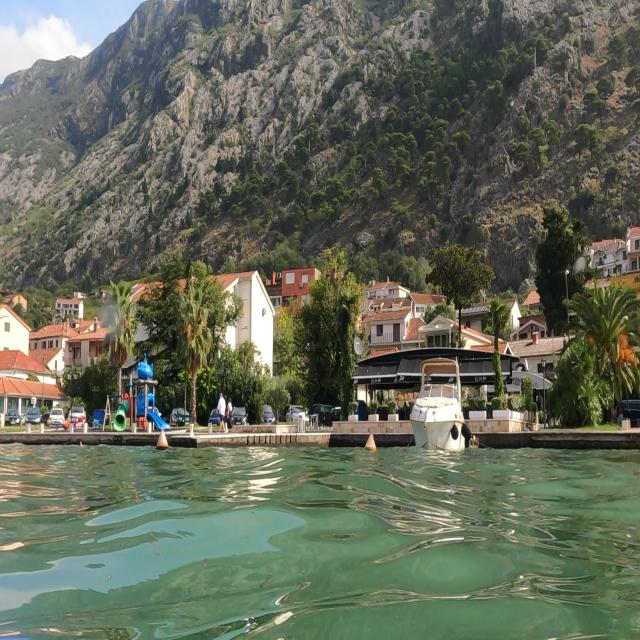boat: (408, 354, 474, 454)
buoy: (362, 429, 382, 458), (154, 424, 172, 454)
